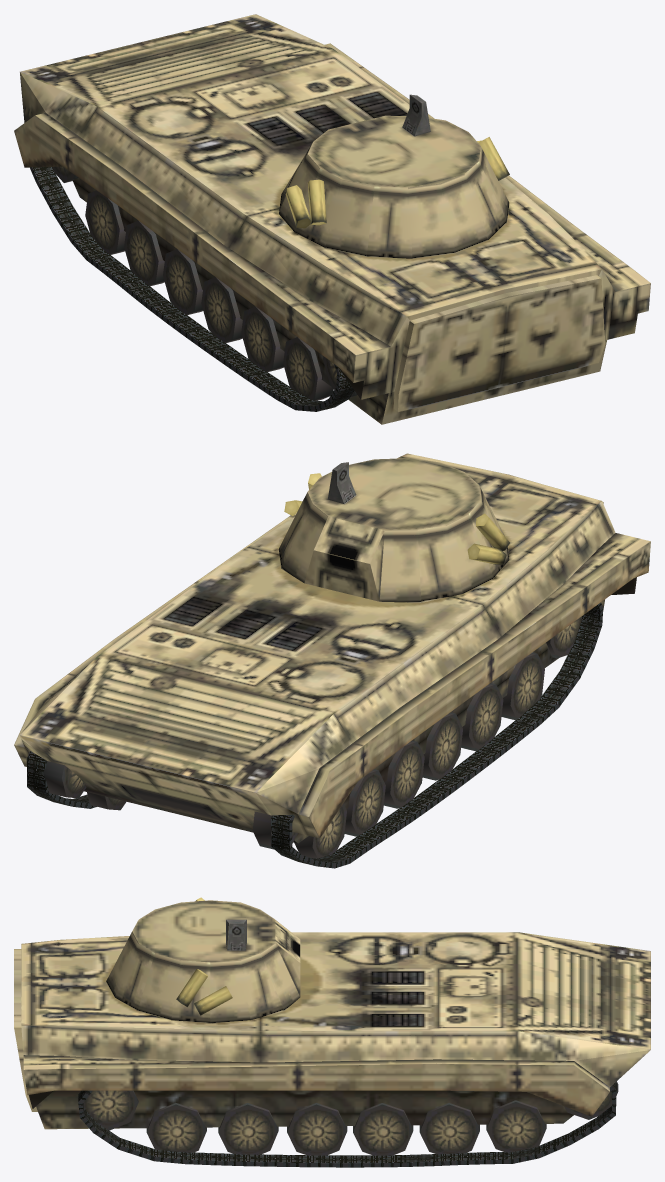
Rendered from BMP2.glb.
3 renders of one model, top to bottom at view 1: azimuth 30°, elevation 25°; view 2: azimuth 150°, elevation 25°; view 3: azimuth 270°, elevation 25°, orthographic. The views are drawn at different scales.
Parts seen in each view (by area): view 1: BMP1, BMP1_TURRET, BMP1WHEELRIGHT (×6), LEFTDOOR, RIGHTDOOR, BMP1_TRACK_RIGHT_01, BMP2-RLMOUNT; view 2: BMP1, BMP1_TURRET, BMP1WHEELRIGHT (×8), BMP1_TRACK_RIGHT_01, BMP1_TRACK_LEFT_01, BMP1WHEELLEFT, BMP2-RLMOUNT; view 3: BMP1, BMP1_TURRET, BMP1WHEELLEFT (×7), BMP1_TRACK_LEFT_01, RIGHTDOOR, BMP2-RLMOUNT.
Boxes of the visible parts, <box> form: BMP1: <box>14,14,650,424</box>; BMP1_TURRET: <box>279,115,509,258</box>; BMP1WHEELRIGHT (×6): <box>85,190,333,400</box>; LEFTDOOR: <box>393,293,508,412</box>; RIGHTDOOR: <box>498,275,605,387</box>; BMP1_TRACK_RIGHT_01: <box>29,167,354,411</box>; BMP2-RLMOUNT: <box>402,94,430,136</box>; BMP1: <box>14,453,650,843</box>; BMP1_TURRET: <box>279,458,509,602</box>; BMP1WHEELRIGHT (×8): <box>252,616,581,858</box>; BMP1_TRACK_RIGHT_01: <box>271,602,603,868</box>; BMP1_TRACK_LEFT_01: <box>26,751,96,808</box>; BMP1WHEELLEFT: <box>43,761,86,798</box>; BMP2-RLMOUNT: <box>327,462,356,503</box>; BMP1: <box>21,932,650,1129</box>; BMP1_TURRET: <box>106,897,300,1023</box>; BMP1WHEELLEFT (×7): <box>83,1090,546,1155</box>; BMP1_TRACK_LEFT_01: <box>78,1082,616,1167</box>; RIGHTDOOR: <box>14,985,37,1111</box>; BMP2-RLMOUNT: <box>226,919,246,950</box>.
Size of the model in its own units: 3.14 by 2.47 by 6.84.
Materials: 3 (3 with a texture image).
